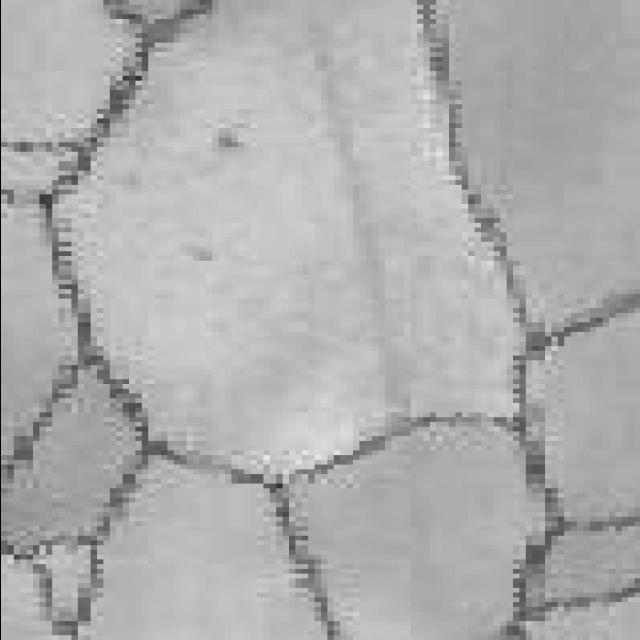good_void: (207, 128, 246, 151)
